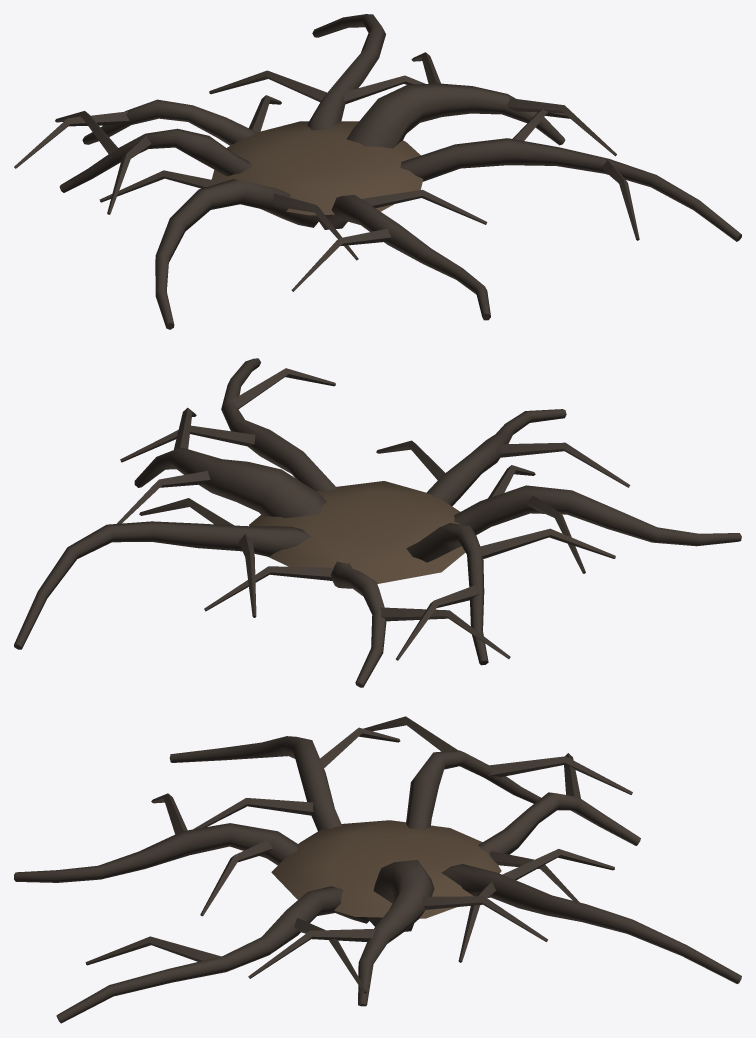
Rendered from roots.glb.
The picture shows the model from 3 angles, top to bottom: view 1: azimuth 30°, elevation 25°; view 2: azimuth 150°, elevation 25°; view 3: azimuth 270°, elevation 25°; orthographic projection. The views are drawn at different scales.
Visible parts, largest first — view 1: roots; view 2: roots; view 3: roots.
Boxes of the visible parts, x1,y1,x2,y2 form: roots: (14,14,741,329); roots: (14,358,741,687); roots: (14,716,741,1023).
Bounding box in the file's own units: 3.28 × 0.5855 × 3.79.
